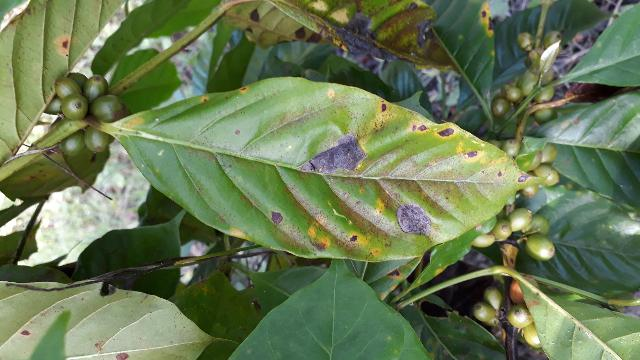rust_level_3: (107, 75, 562, 268)
